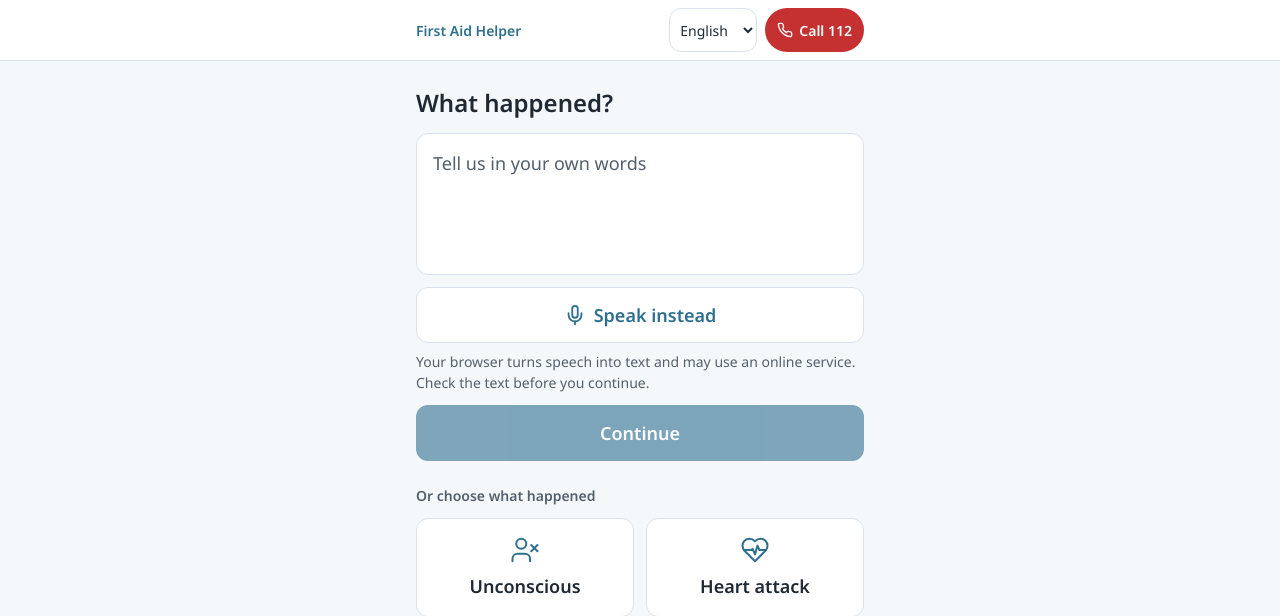
Test case: step checks (Yes / No) › Done, next still works on a step with a check
Type "he is choking" into the text box labelled "What happened?" at (640, 204), box [416, 133, 864, 275]
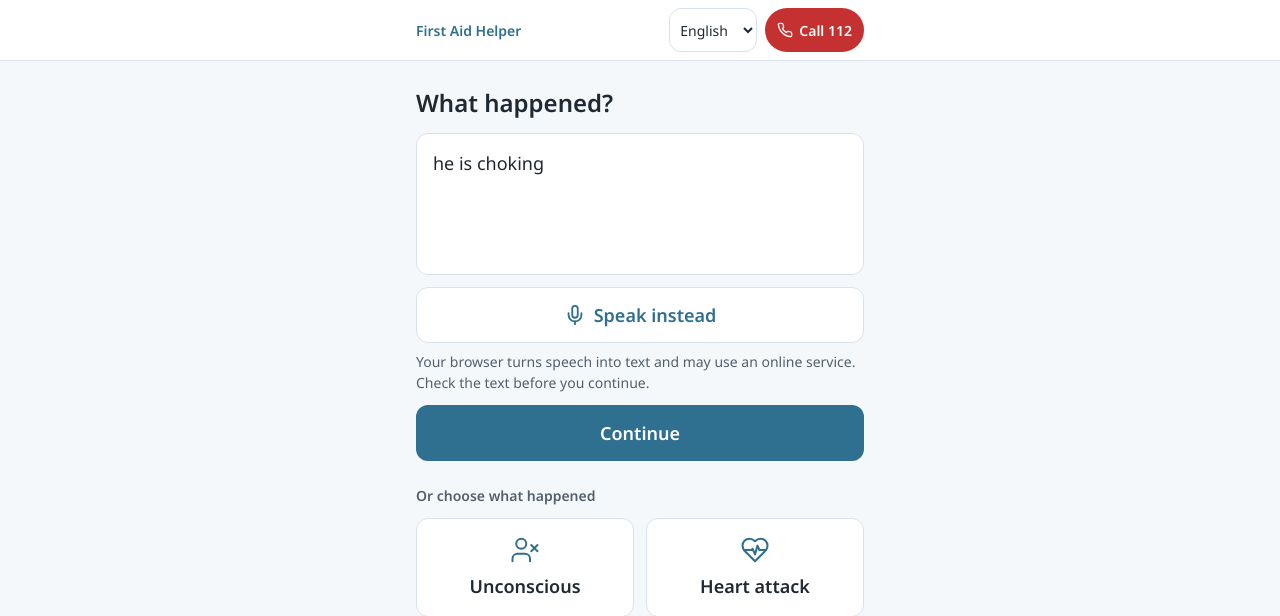
Click the button "Continue" at (640, 433), box [416, 405, 864, 461]
(page scrolled)
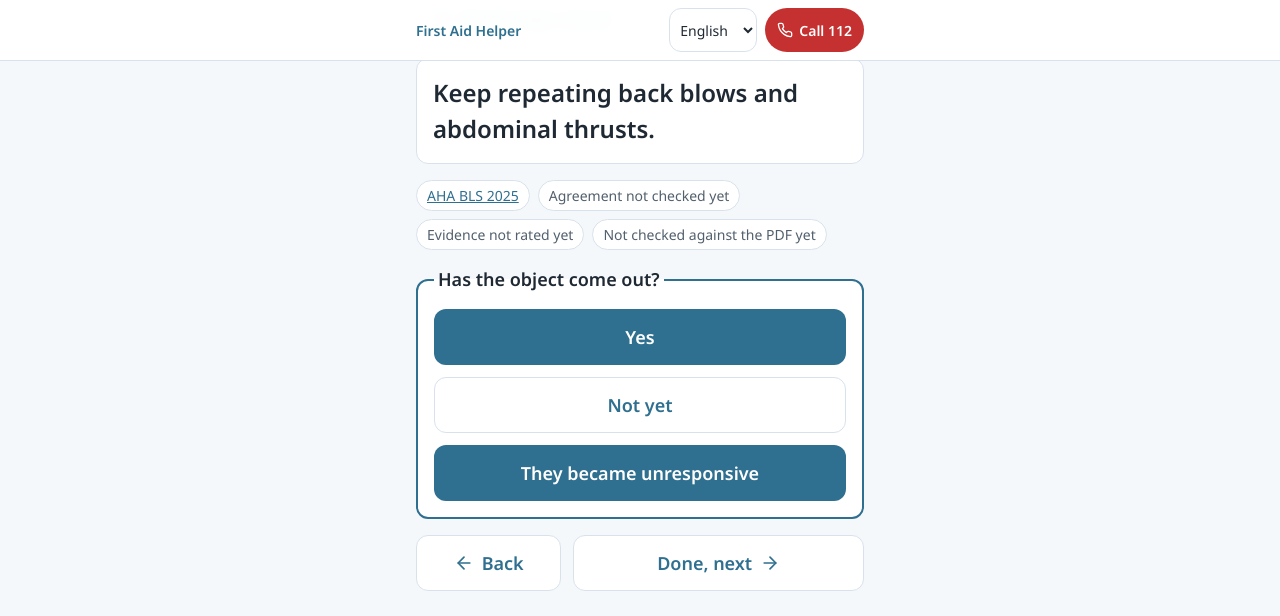
Expected: the text "Has the object come out?" is shown, [434, 266, 664, 293]
Click the button "Done, next" at (719, 563), box [573, 535, 864, 591]
(page scrolled)
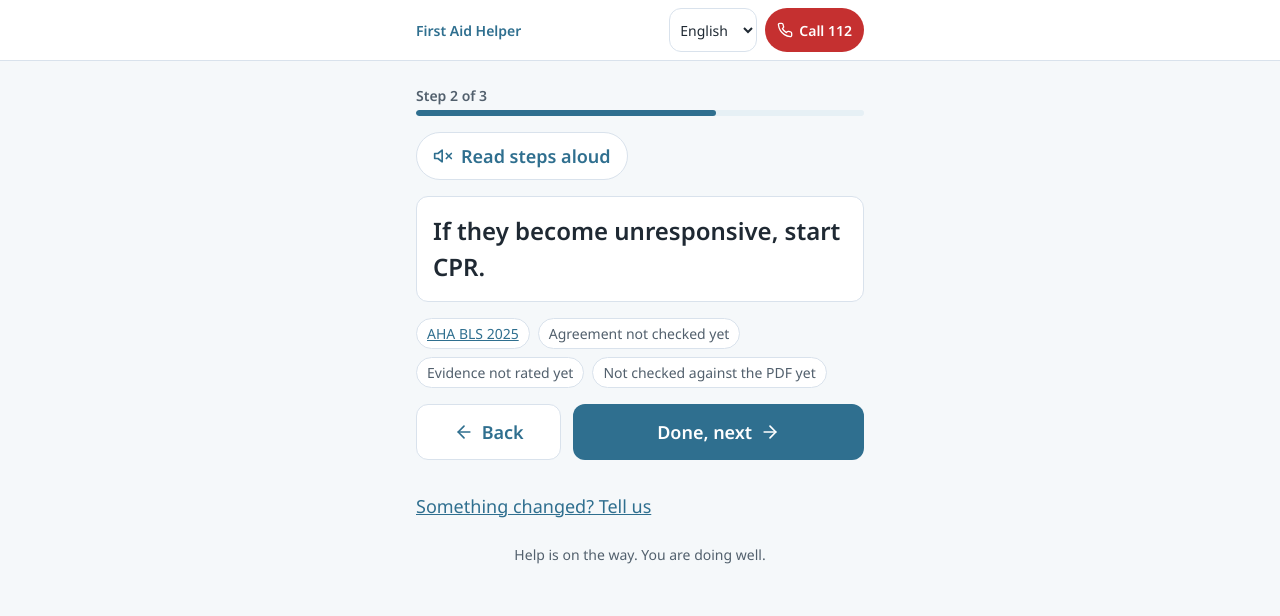
Expected: the text "If they become unresponsive, start CPR." is shown, [433, 213, 847, 285]
